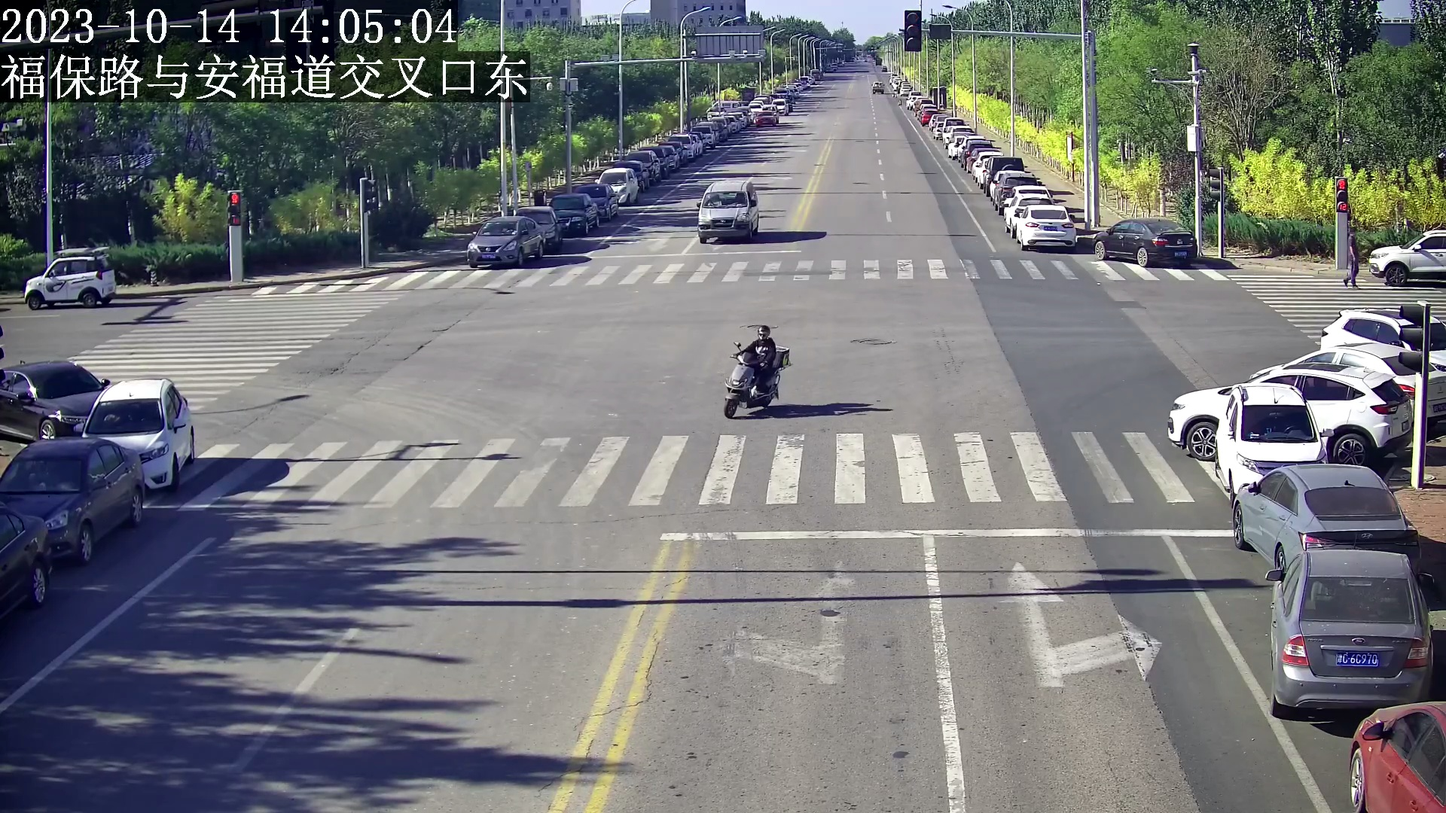person: (745, 318, 769, 388), (1346, 224, 1359, 289)
vehicle: (1268, 550, 1440, 717), (1230, 467, 1420, 560), (5, 438, 140, 560), (82, 380, 199, 488), (1353, 700, 1445, 810), (1219, 380, 1305, 497), (4, 356, 105, 442), (715, 341, 789, 419), (1094, 214, 1195, 270), (20, 251, 121, 306), (462, 216, 548, 267), (697, 178, 761, 242), (1371, 226, 1442, 281), (1017, 200, 1079, 254)
